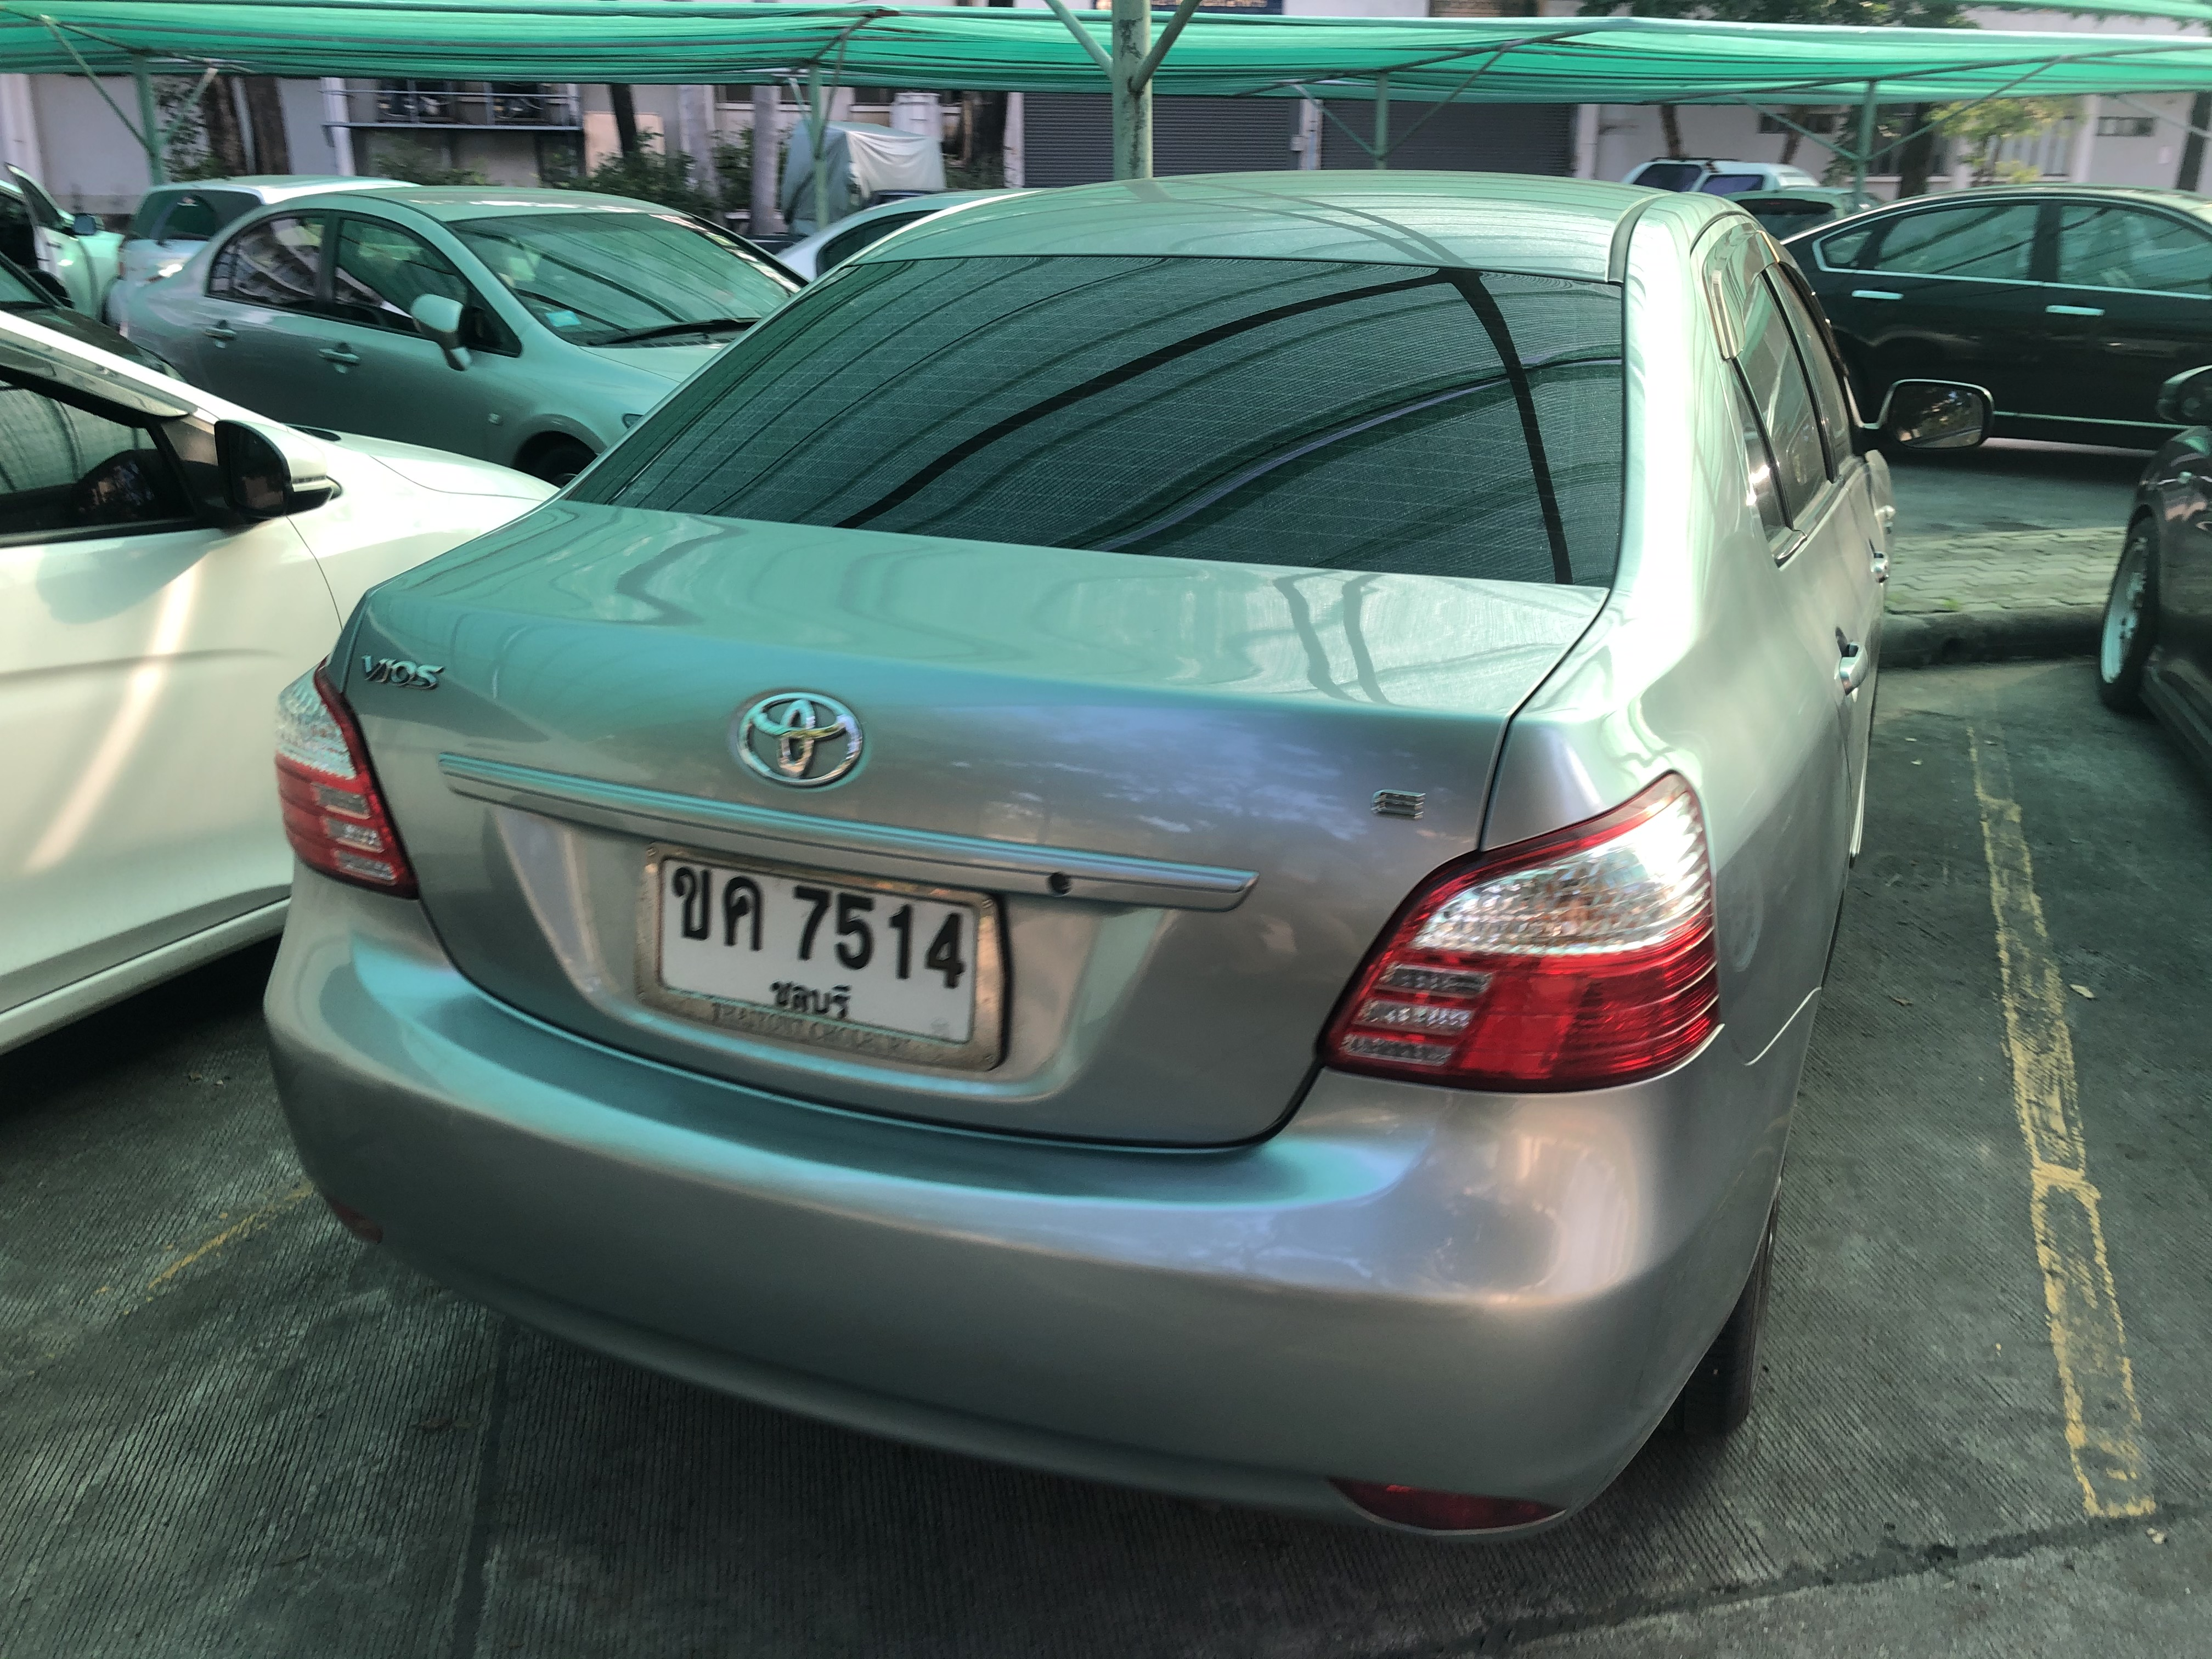in: (658, 859, 974, 1044)
out: (639, 836, 1010, 1072)
